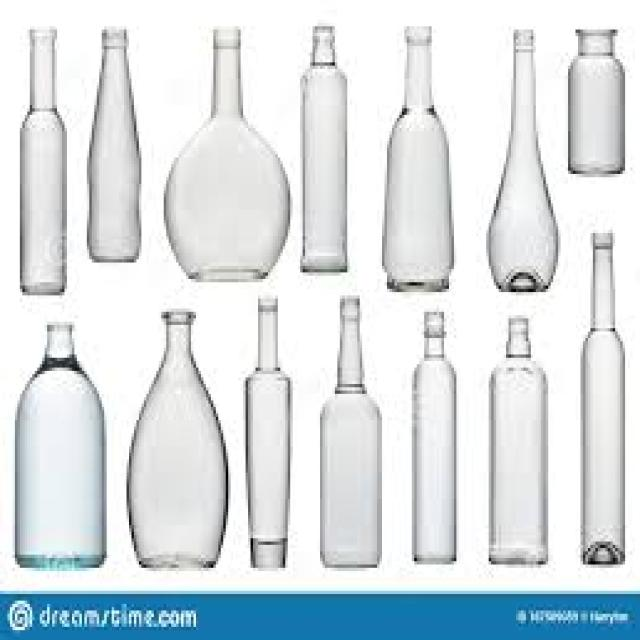bottle: (164, 30, 290, 282), (127, 312, 228, 567), (15, 325, 106, 567), (383, 27, 453, 292), (489, 30, 558, 292), (320, 299, 382, 567), (581, 234, 625, 564), (489, 319, 548, 564), (87, 30, 141, 262), (20, 30, 66, 295), (246, 299, 290, 567), (301, 27, 347, 272), (412, 312, 456, 564), (569, 30, 625, 173)
